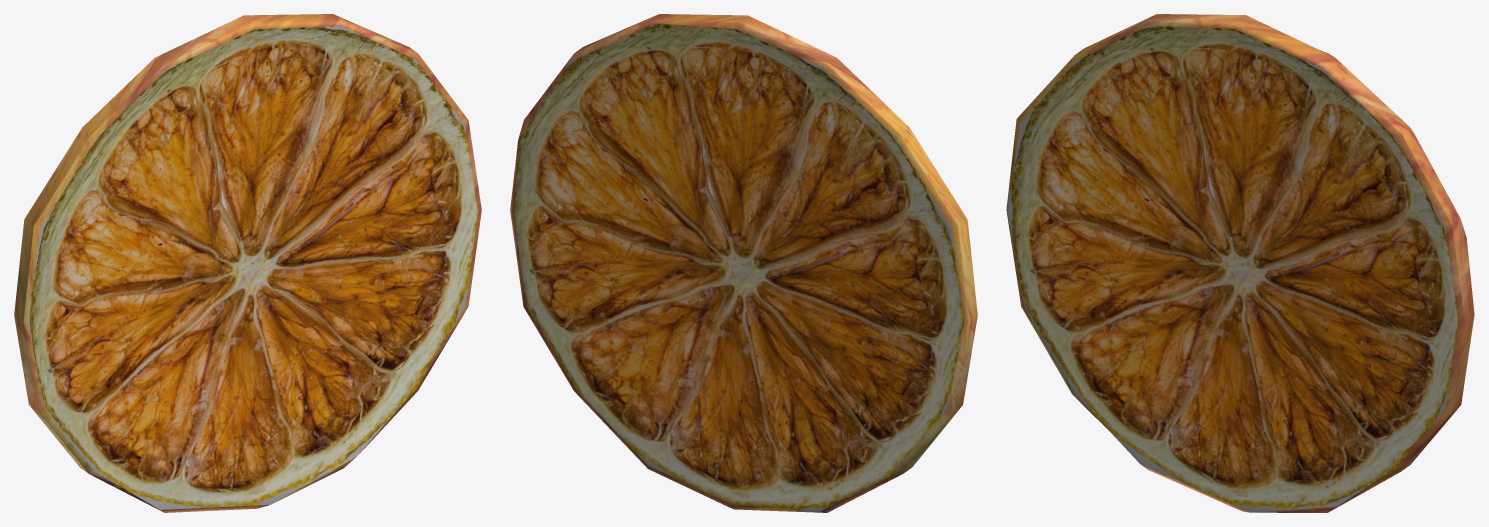
File: Dehydrated Lime.fbx
3 renders of one model, left to right at view 1: azimuth 30°, elevation 25°; view 2: azimuth 150°, elevation 25°; view 3: azimuth 330°, elevation 25°, orthographic.
Parts seen in each view (by area): view 1: DehydratedLime; view 2: DehydratedLime; view 3: DehydratedLime.
Boxes of the visible parts, bbox=[...] form: DehydratedLime: bbox=[14, 14, 481, 512]; DehydratedLime: bbox=[510, 14, 977, 512]; DehydratedLime: bbox=[1006, 14, 1474, 512].
Size of the model in its own units: 2.88 by 2.93 by 0.1391.
Materials: 1 (1 with a texture image).
